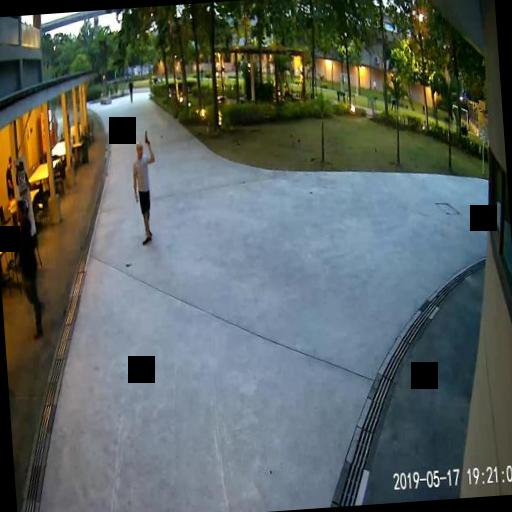Handgun: (143, 128, 150, 144)
